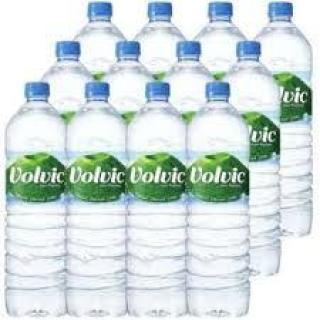Plastic-bottle: (2, 78, 71, 320), (186, 81, 254, 318), (65, 81, 132, 318), (223, 42, 288, 281), (252, 2, 316, 243), (128, 82, 192, 318), (161, 40, 225, 118), (99, 37, 160, 114), (194, 1, 254, 76), (69, 1, 129, 75), (38, 39, 99, 109), (133, 1, 190, 74)
